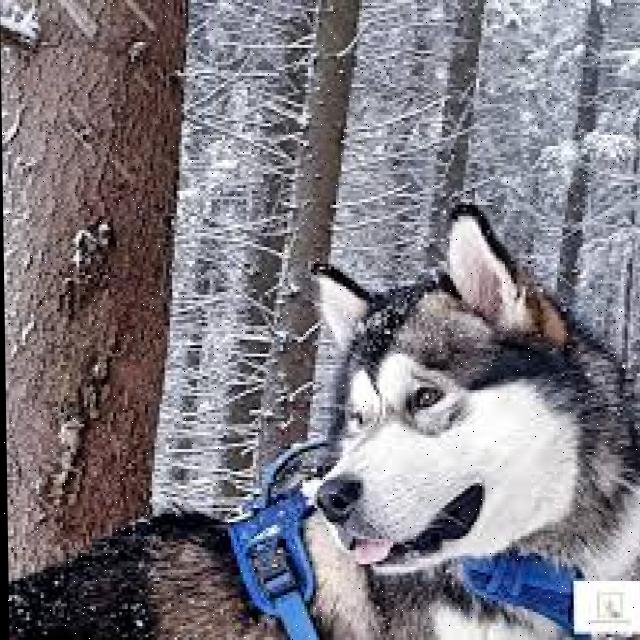ALASKAN_MALAMUTE: (2, 196, 640, 640)
